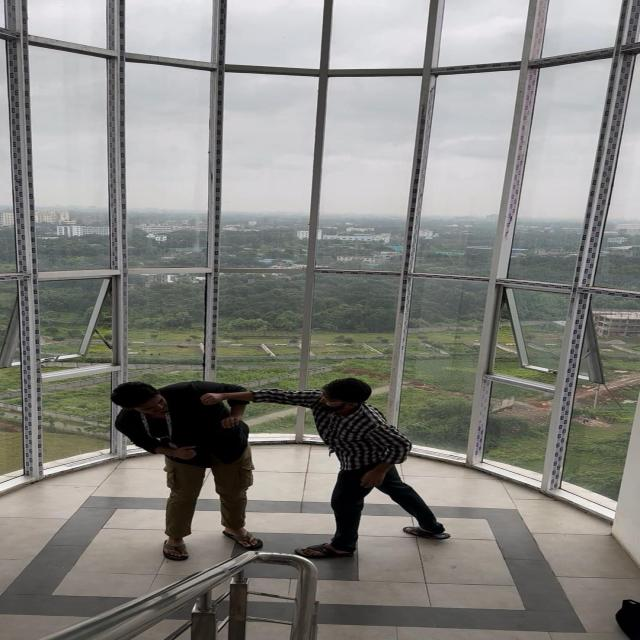fight: (83, 345, 478, 578)
